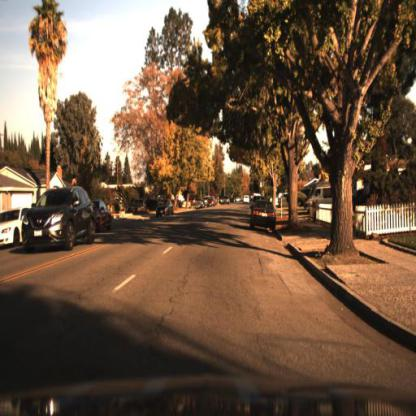car: (23, 186, 96, 256), (303, 177, 341, 220), (1, 208, 35, 251), (250, 199, 280, 238), (302, 185, 336, 209), (154, 195, 174, 224), (207, 195, 218, 211)
